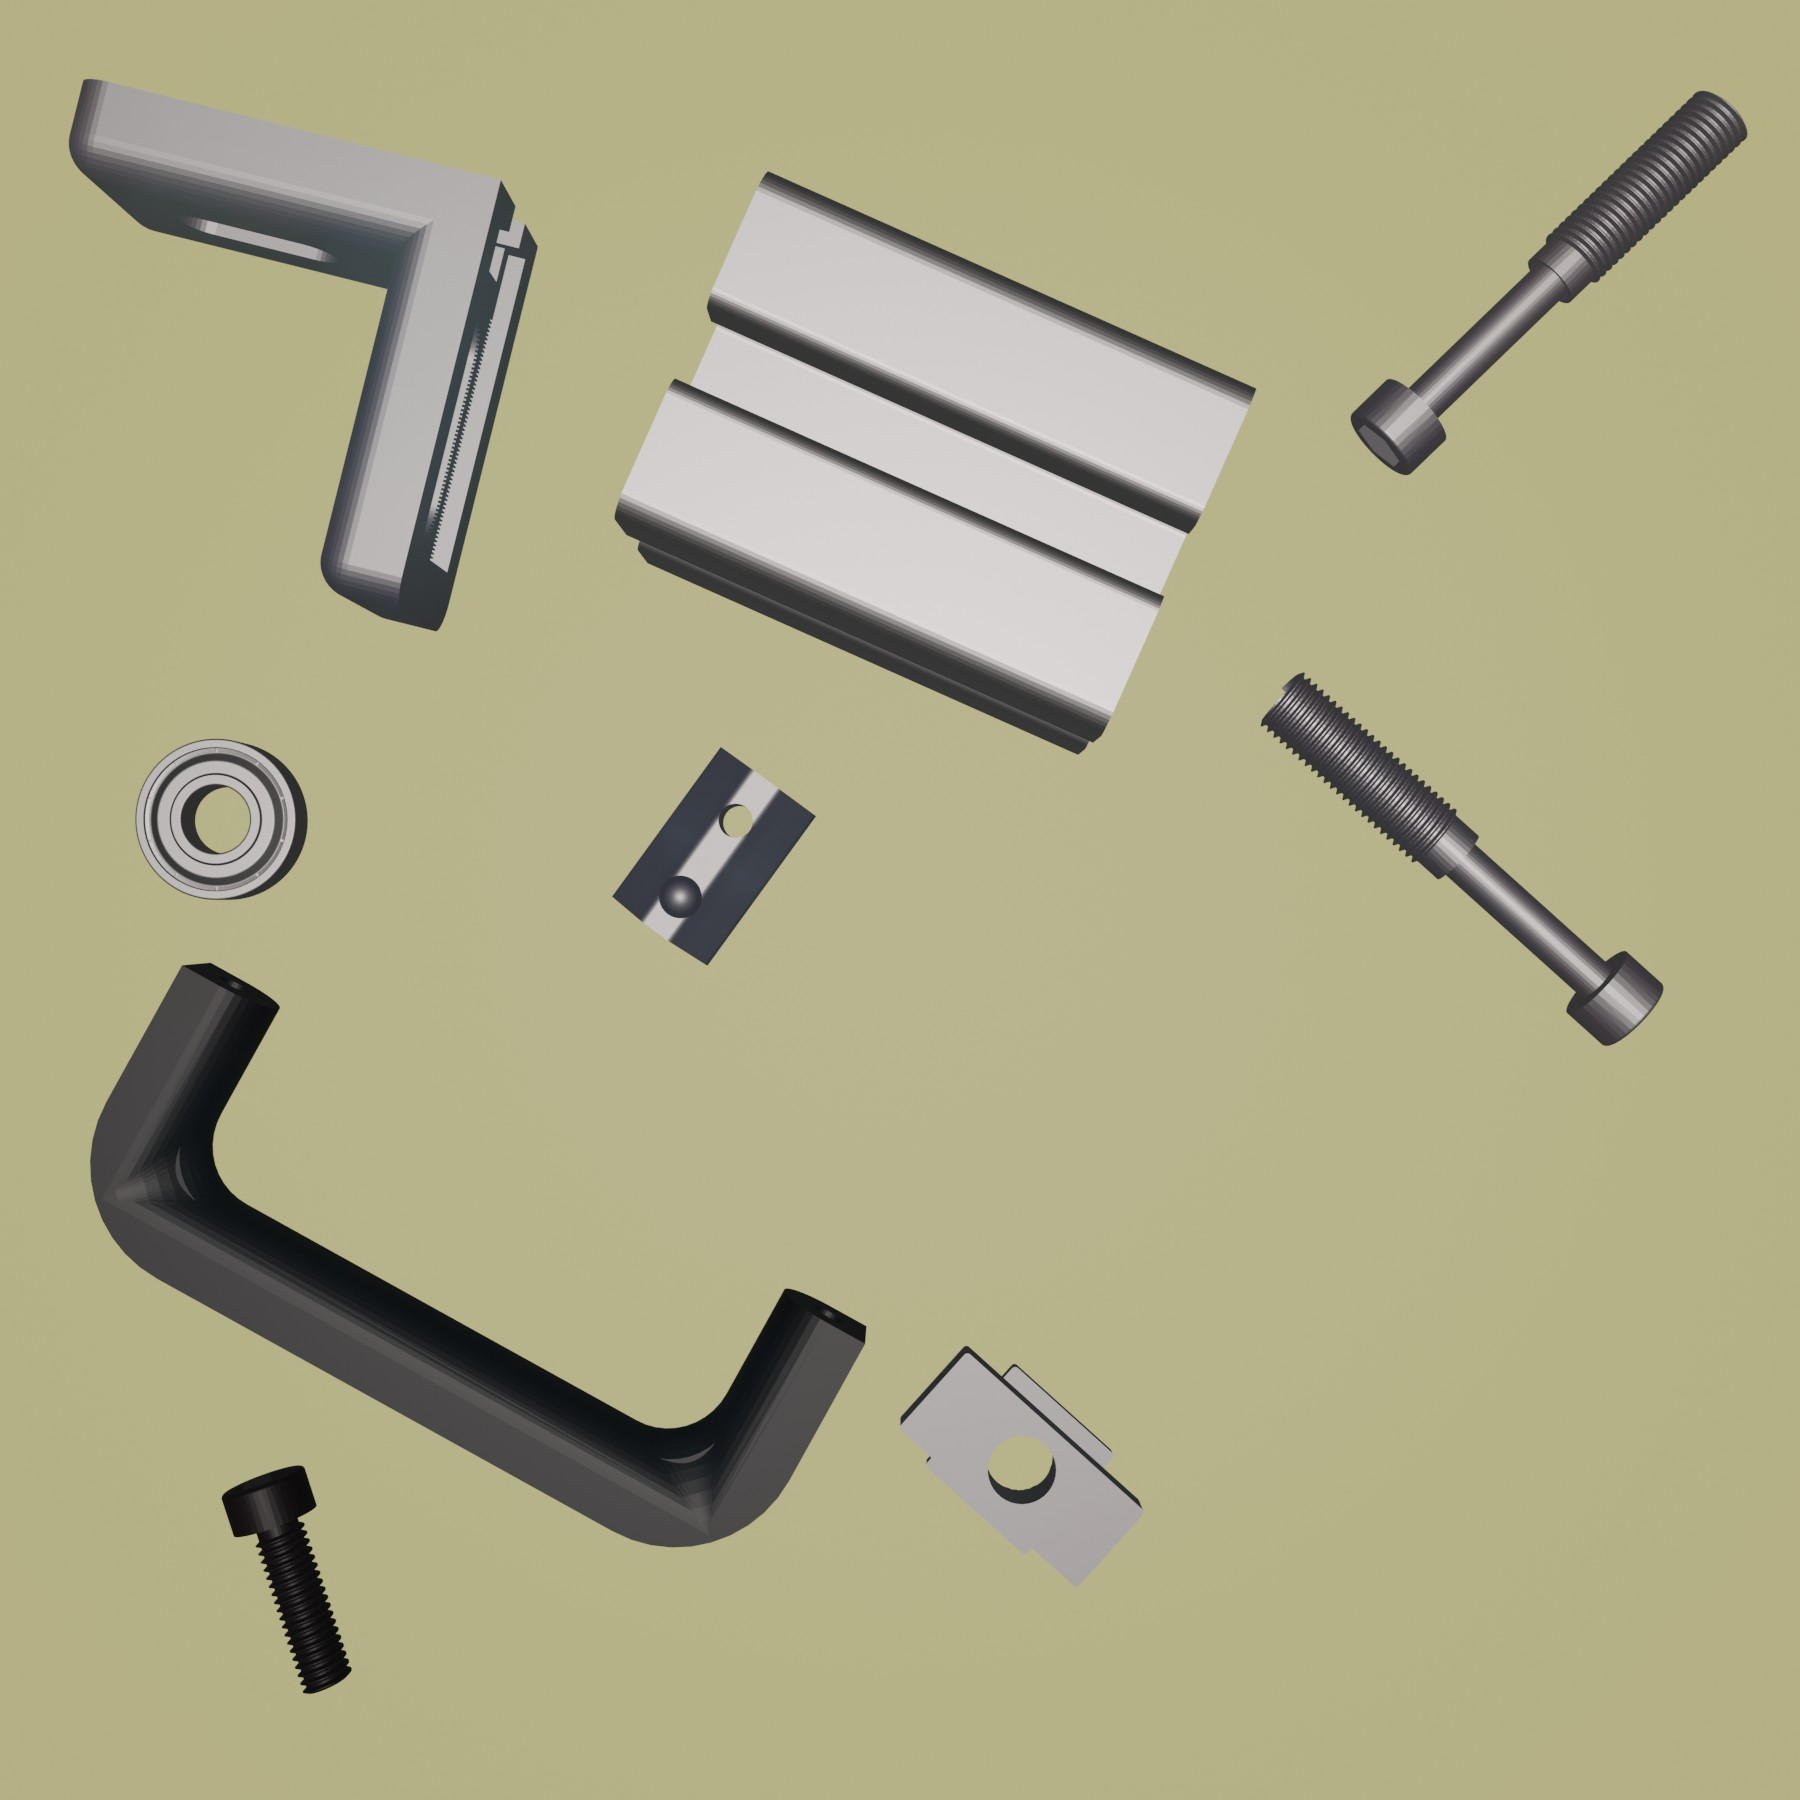Aluminium Extension: (612, 166, 1258, 758)
Ball Bearing: (130, 737, 308, 903)
Multiwinkel: (66, 73, 539, 636)
Pull Handle: (87, 953, 867, 1551)
Shoulder Socket Head Cap Screw: (1347, 87, 1751, 476), (1258, 669, 1665, 1047)
Socket Head Cap Screw: (219, 1462, 354, 1698)
T Nut Square: (897, 1342, 1146, 1591)
T Spring Nut: (612, 743, 814, 968)
